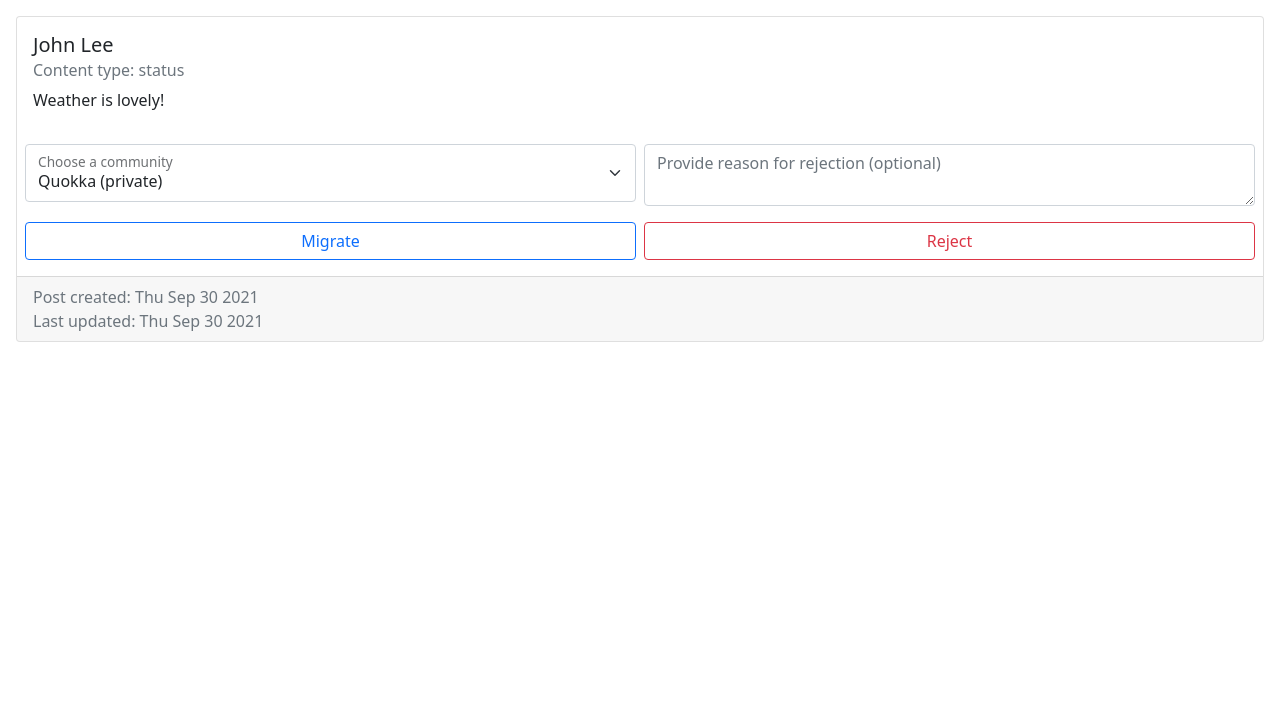
Test: Simulating the admin clicking the Migrate button of a post pending review
Click the button "Migrate": (330, 241) 25,222 -> 636,260
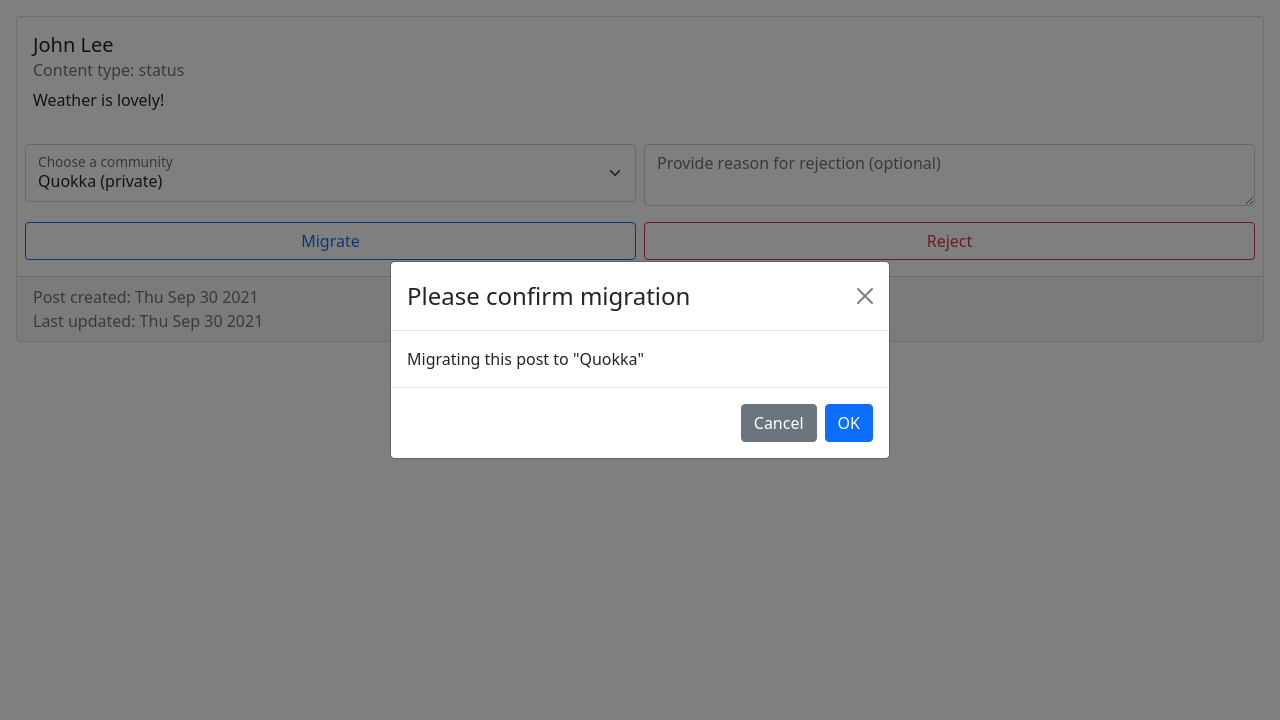
expect the text "Please confirm migration" is shown: met, box 407,278 -> 690,314
Click the button "OK": (849, 423) 825,404 -> 873,442
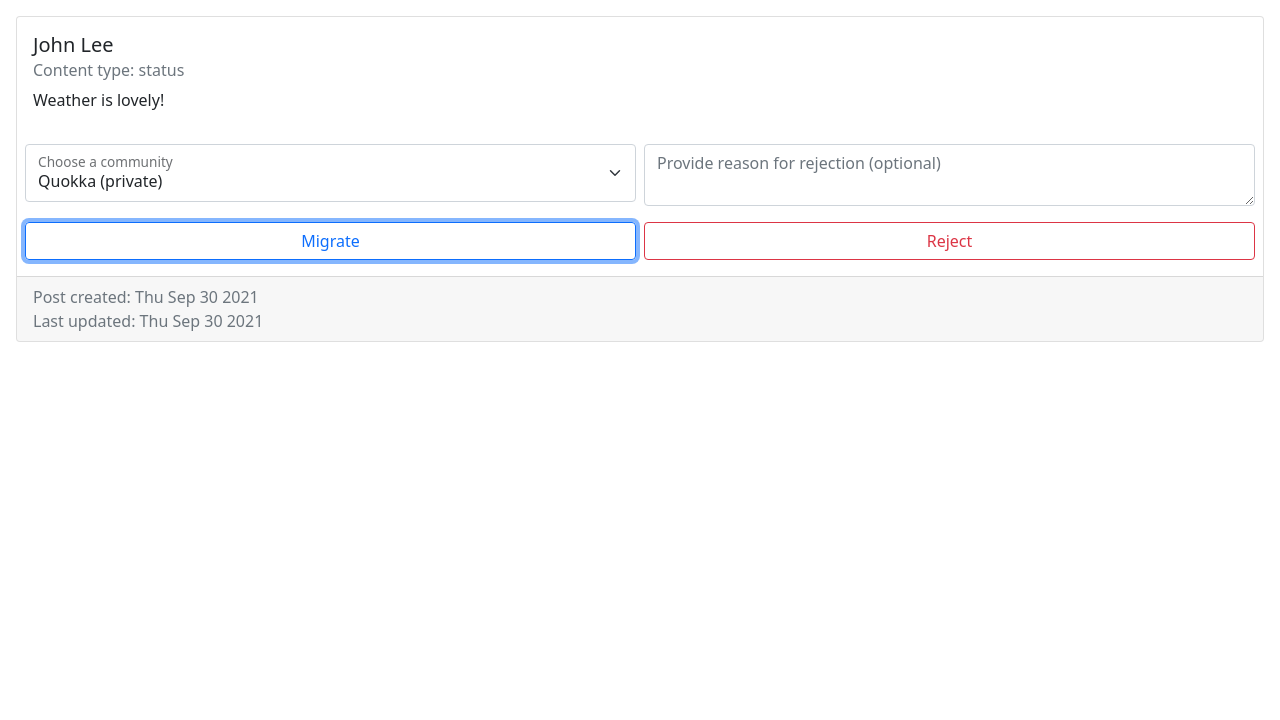
expect the button "Cancel" is gone: met
